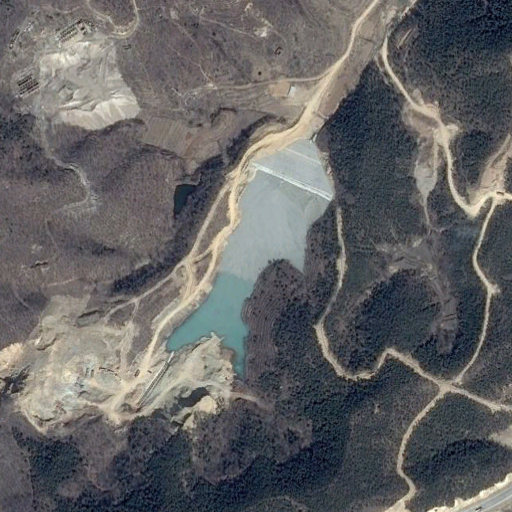tp: (164, 138, 335, 379)
